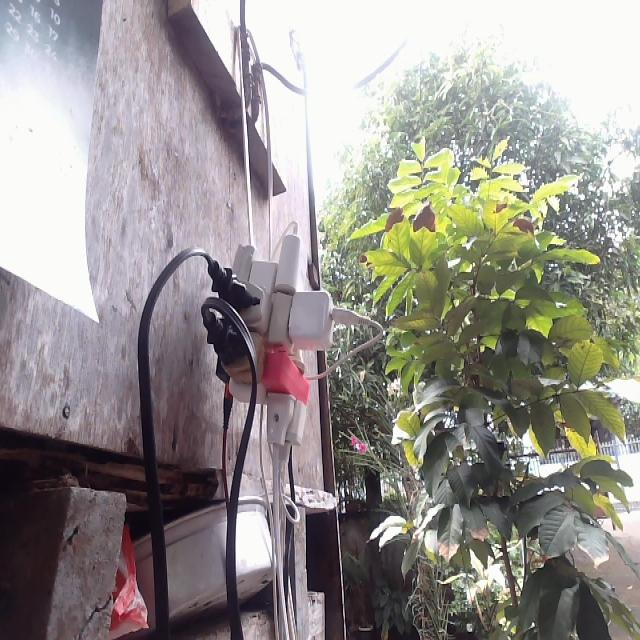-: (198, 219, 341, 441)
